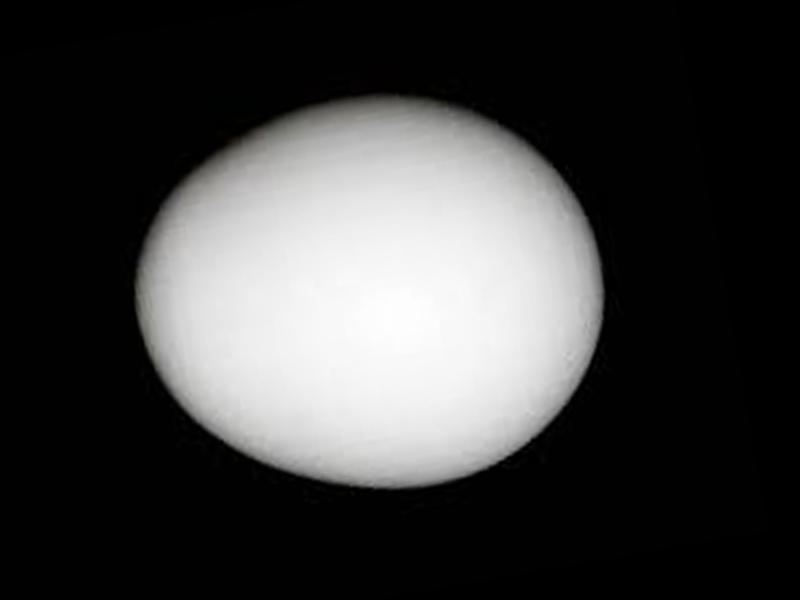Eggs: (113, 68, 635, 526)
